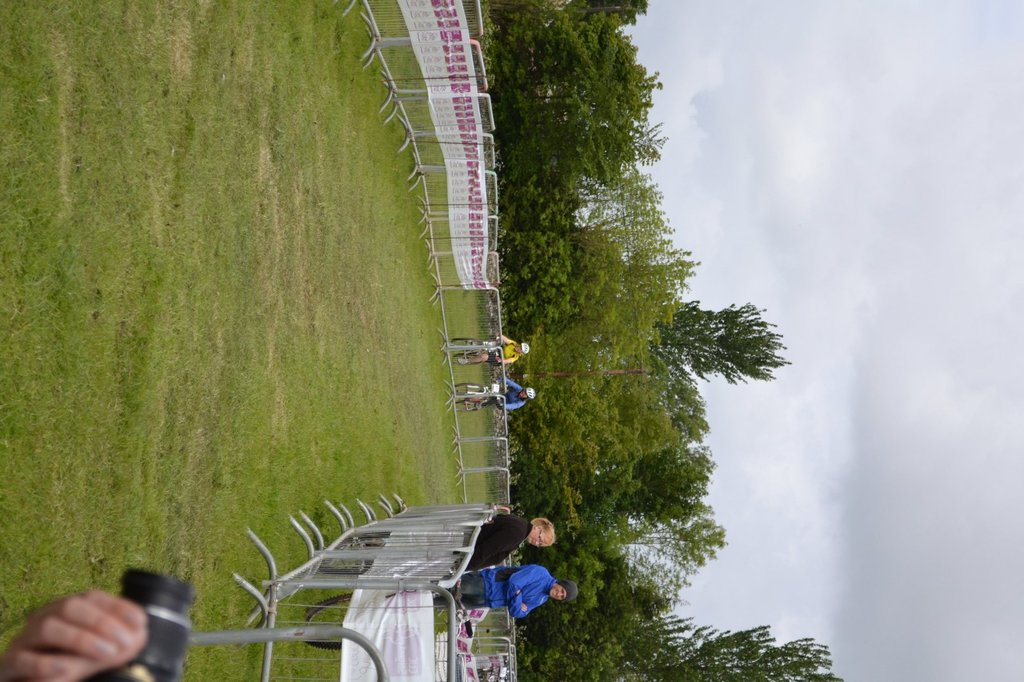Person: (465, 515, 558, 574), (459, 330, 530, 364), (476, 377, 537, 410)
